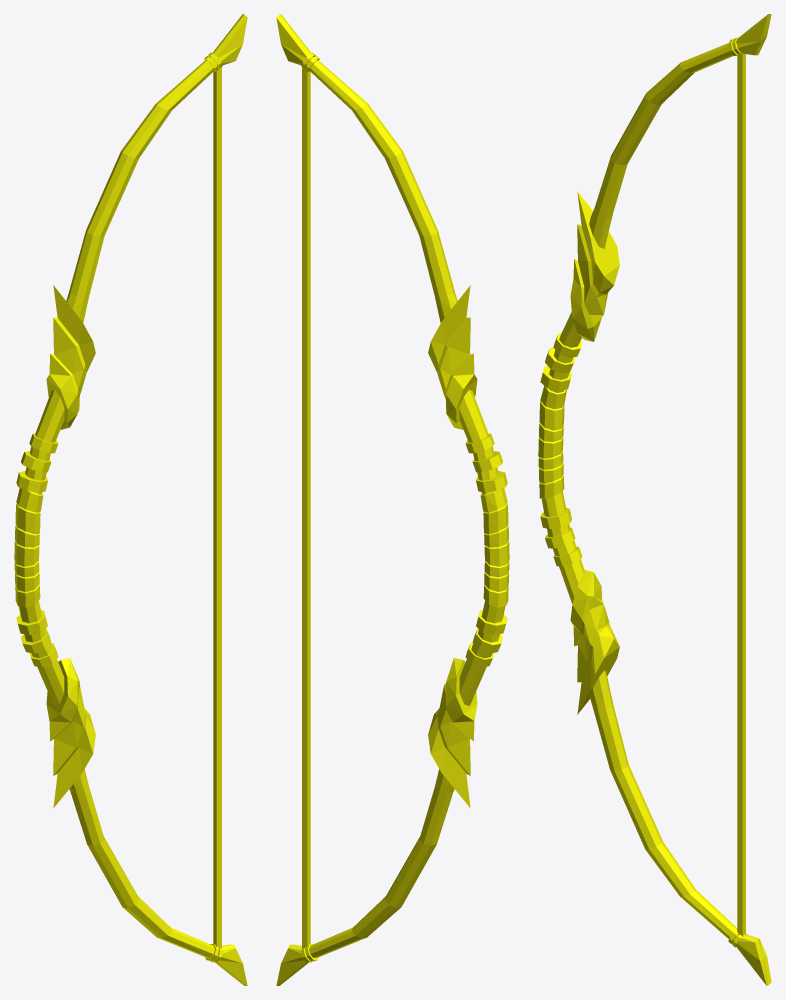
File: _bow_19.glb
The picture shows the model from 3 angles, left to right: view 1: azimuth 30°, elevation 25°; view 2: azimuth 150°, elevation 25°; view 3: azimuth 330°, elevation 25°; orthographic projection.
Visible parts, largest first — view 1: bow_19; view 2: bow_19; view 3: bow_19.
Part boxes in pixels (x1,y1,x2,y2): bow_19: (14,14,247,985); bow_19: (276,14,509,985); bow_19: (538,14,771,985).
Size of the model in its own units: 9992 by 40559 by 1674.
